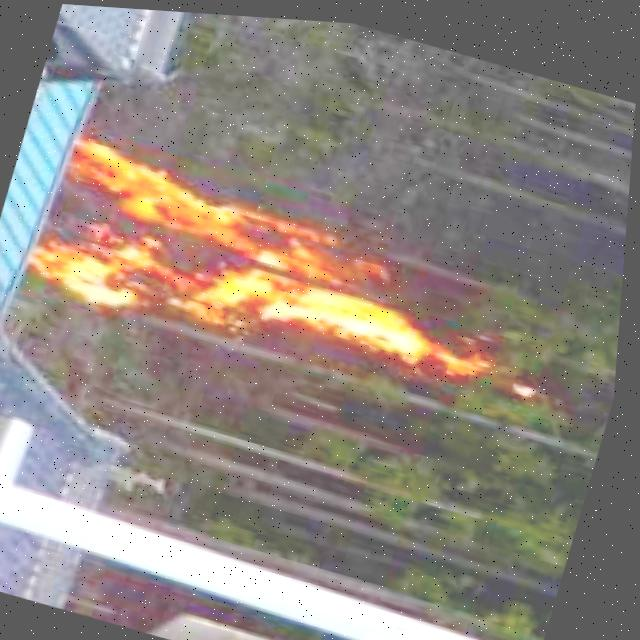Fire: (25, 130, 509, 408)
